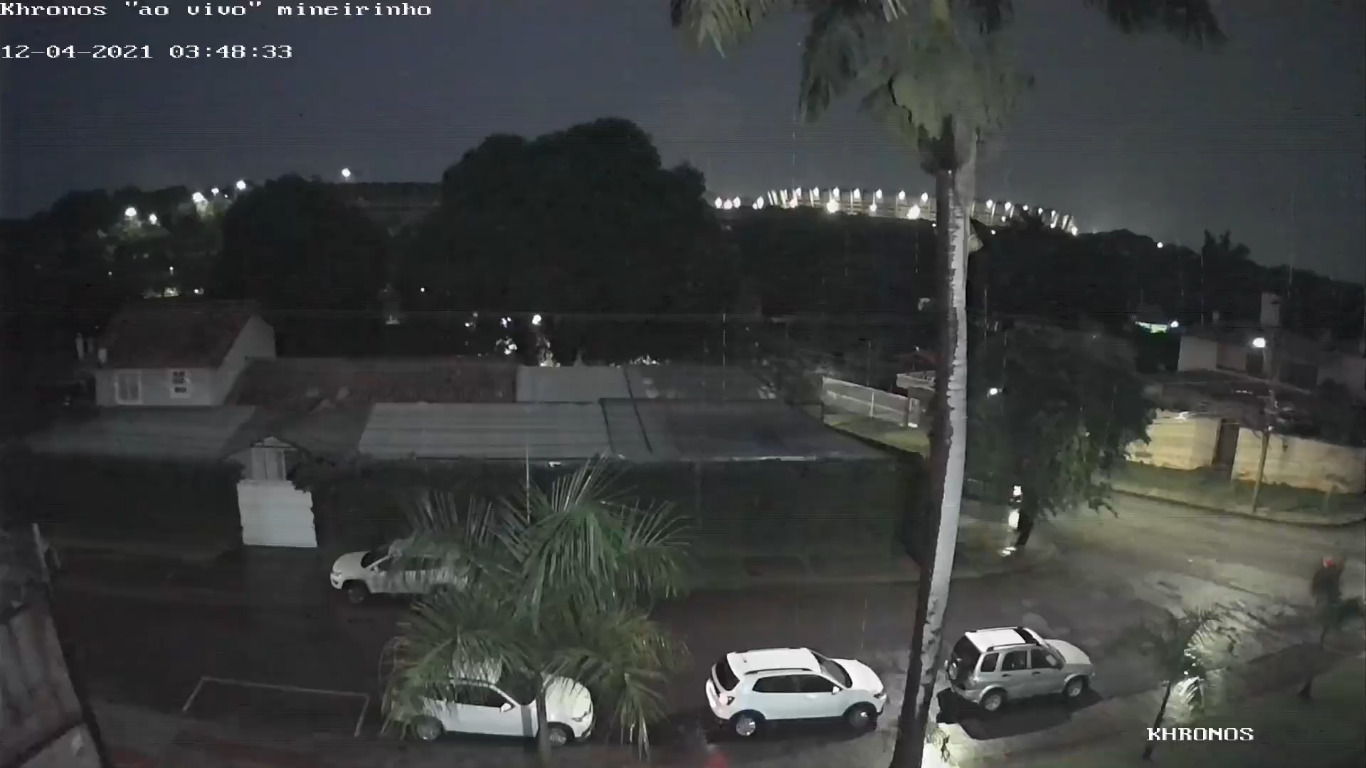car: (385, 649, 598, 749), (704, 646, 886, 735), (943, 623, 1094, 709), (329, 539, 474, 605)
